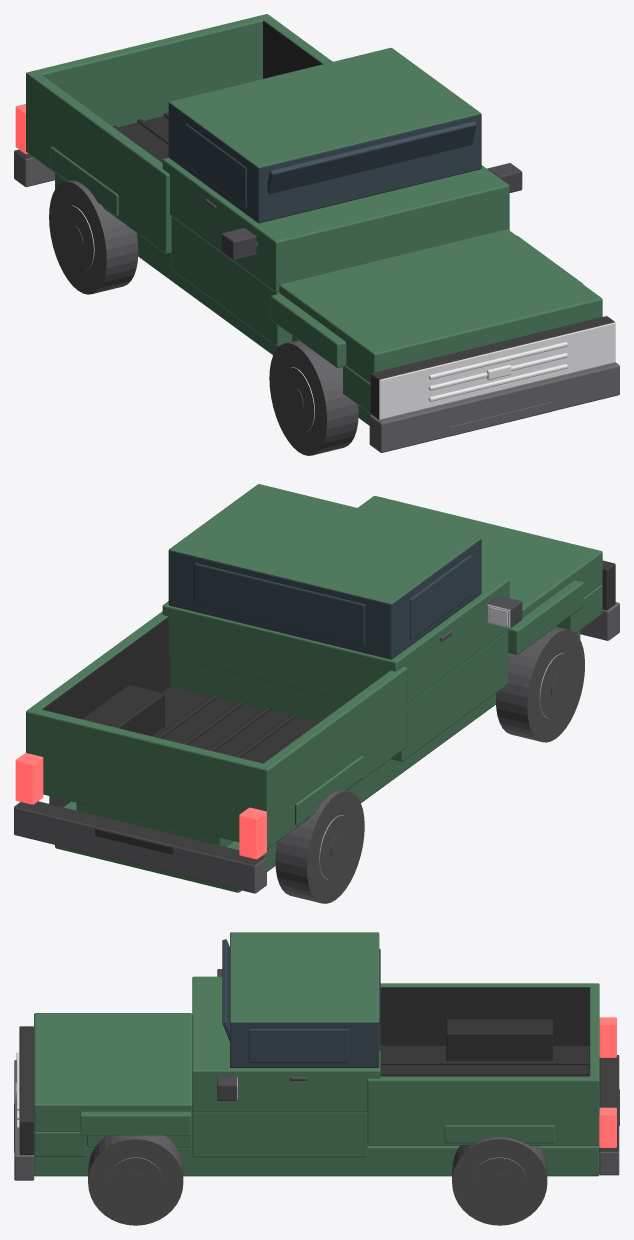
3 renders of one model, top to bottom at view 1: azimuth 30°, elevation 25°; view 2: azimuth 150°, elevation 25°; view 3: azimuth 270°, elevation 25°, orthographic. The views are drawn at different scales.
Visible parts, largest first — view 1: Cab, ChassisAndLowerBody, CargoBed, FrontGrilleAndBumper, FrontWheel_1, RearWheel_1, RearBumperAndTaillights, SideMirror_1, SideMirror_0; view 2: Cab, CargoBed, ChassisAndLowerBody, RearBumperAndTaillights, FrontWheel_1, RearWheel_1, FrontGrilleAndBumper, SideMirror_1; view 3: ChassisAndLowerBody, CargoBed, Cab, FrontWheel_0, RearWheel_0, RearBumperAndTaillights, FrontGrilleAndBumper, SideMirror_0.
Part boxes in pixels (box(x1,y1,x2,y2)): Cab: box(162, 48, 509, 292); ChassisAndLowerBody: box(50, 146, 602, 425); CargoBed: box(26, 14, 332, 253); FrontGrilleAndBumper: box(369, 316, 619, 452); FrontWheel_1: box(269, 340, 358, 455); RearWheel_1: box(49, 180, 138, 294); RearBumperAndTaillights: box(14, 104, 54, 187); SideMirror_1: box(221, 228, 257, 260); SideMirror_0: box(487, 163, 522, 192); Cab: box(162, 484, 509, 703); CargoBed: box(26, 611, 407, 848); ChassisAndLowerBody: box(55, 496, 602, 892); RearBumperAndTaillights: box(14, 753, 266, 893); FrontWheel_1: box(495, 627, 584, 742); RearWheel_1: box(275, 790, 364, 903); FrontGrilleAndBumper: box(580, 560, 619, 640); SideMirror_1: box(487, 595, 522, 628); ChassisAndLowerBody: box(34, 1013, 599, 1176); CargoBed: box(367, 983, 599, 1145); Cab: box(192, 932, 380, 1112); FrontWheel_0: box(88, 1135, 183, 1225); RearWheel_0: box(452, 1137, 547, 1225); RearBumperAndTaillights: box(599, 1017, 619, 1175); FrontGrilleAndBumper: box(14, 1026, 34, 1180); SideMirror_0: box(217, 1076, 237, 1100).
Bounding box in the file's own units: 2.2 × 1.73 × 4.83.
